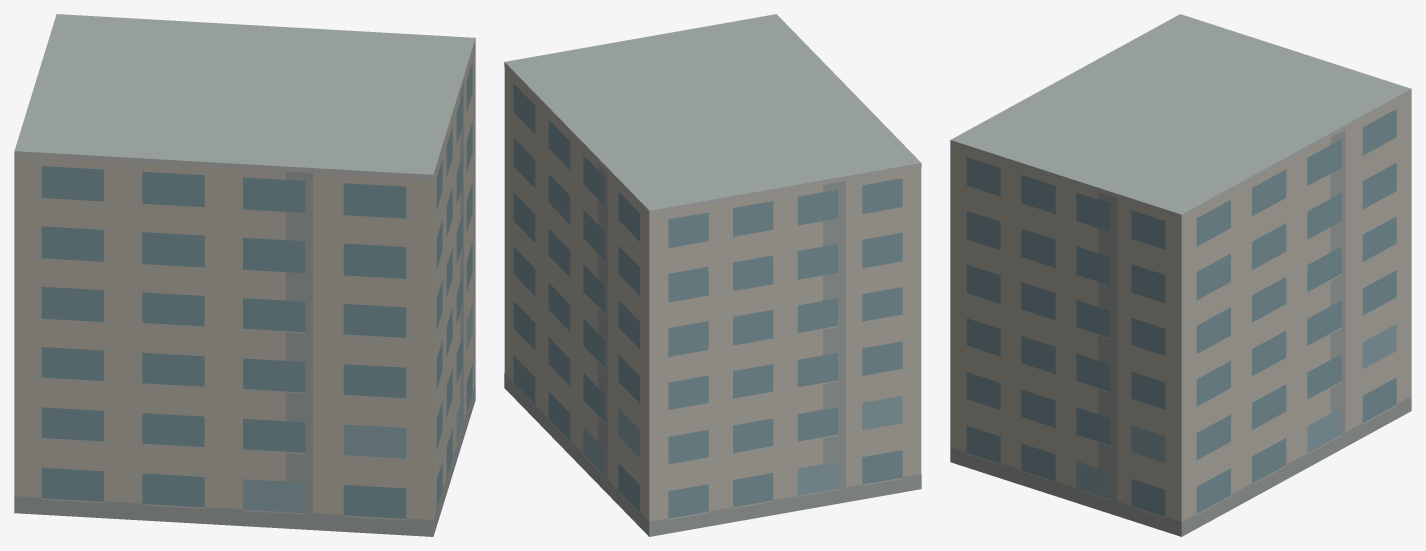
File: survey-upis-33026633.glb
3 renders of one model, left to right at view 1: azimuth 30°, elevation 25°; view 2: azimuth 150°, elevation 25°; view 3: azimuth 270°, elevation 25°, orthographic. The views are drawn at different scales.
Visible parts, largest first — view 1: survey-upis-33026633.tmp; view 2: survey-upis-33026633.tmp; view 3: survey-upis-33026633.tmp.
Part boxes in pixels (box(x1,y1,x2,y2)): survey-upis-33026633.tmp: box(14, 14, 475, 536); survey-upis-33026633.tmp: box(504, 14, 921, 536); survey-upis-33026633.tmp: box(950, 14, 1411, 536).
Size of the model in its own units: 23.11 by 17.3 by 22.44.
